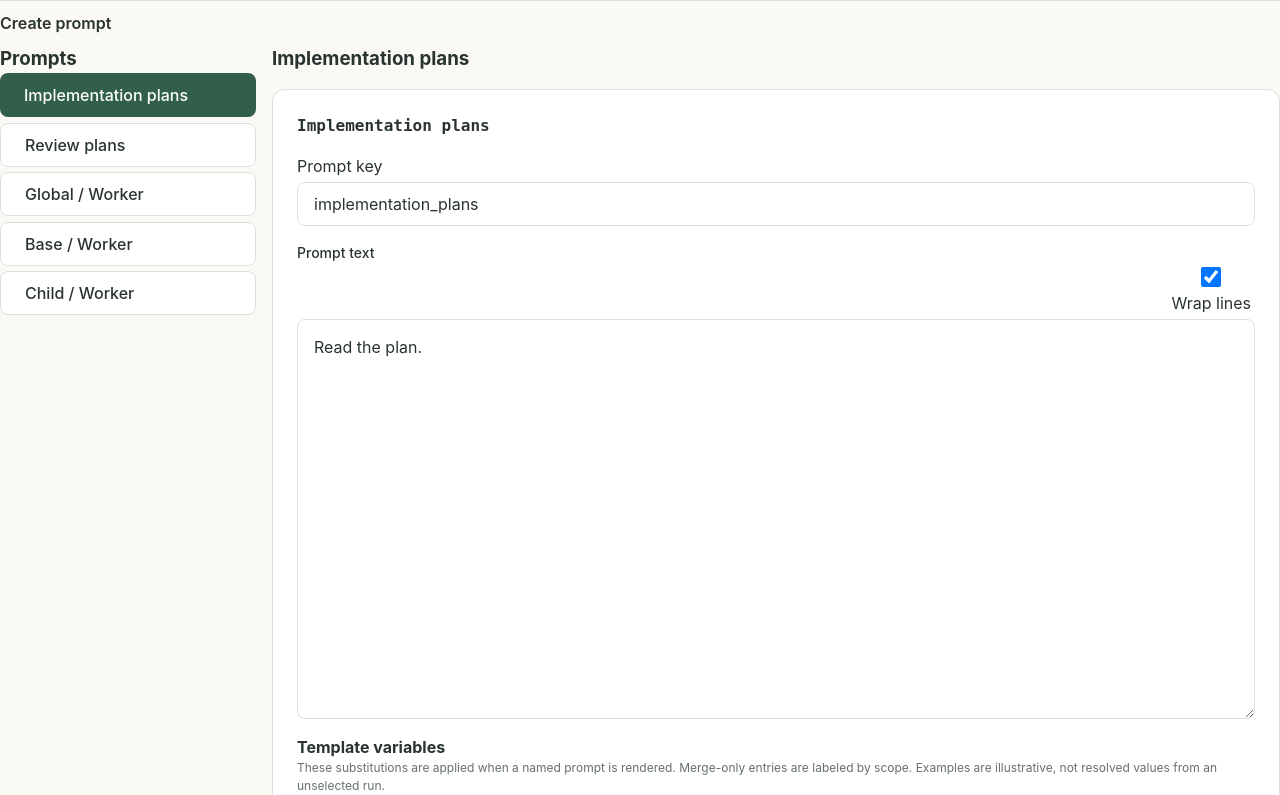
Test: PromptsSettings › edits canonical inherited team prompt text and shows its exact source
The image size is (1280, 795).
Click the button "Child / Worker".
click(128, 294)  # box [0,272,256,316]
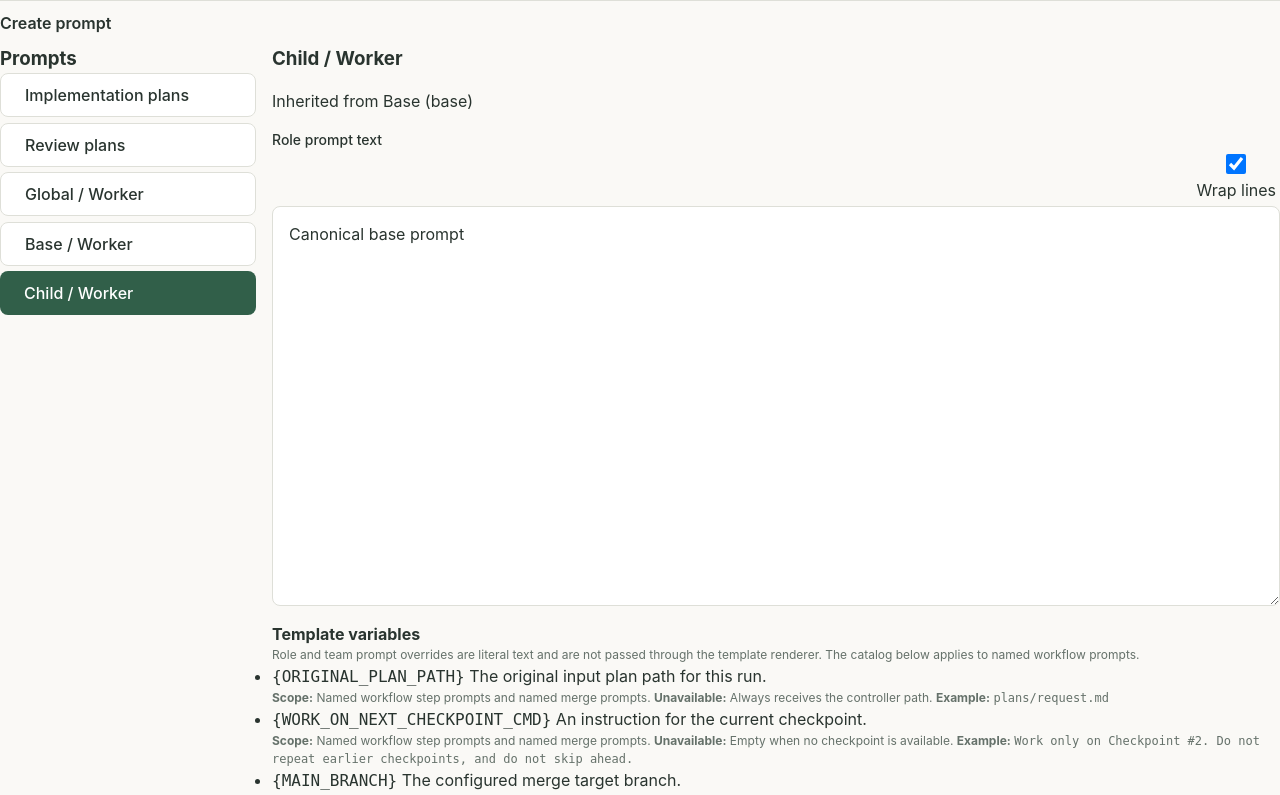
Now the text box named "Role prompt text" holds "Canonical base prompt", box [272,206,1279,606]
Now the text "Inherited from Base (base)" is shown, box [272,91,473,111]
